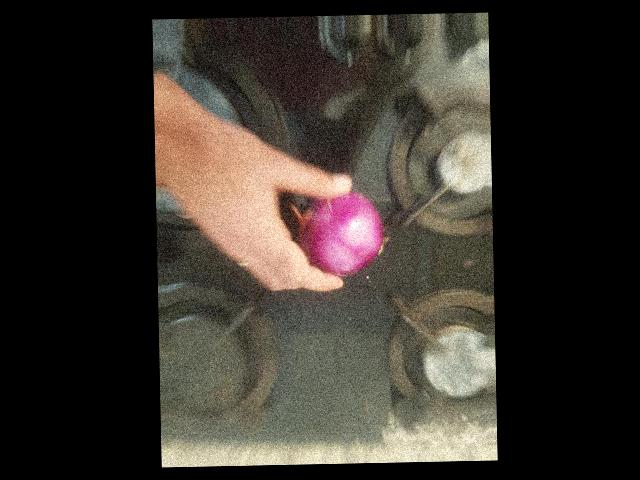onion: (348, 270, 437, 354)
